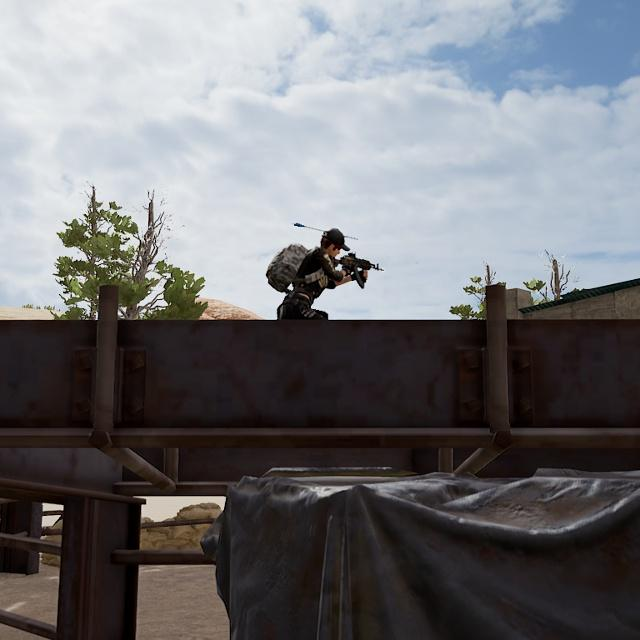head: (311, 219, 354, 262)
people: (263, 205, 378, 322)
